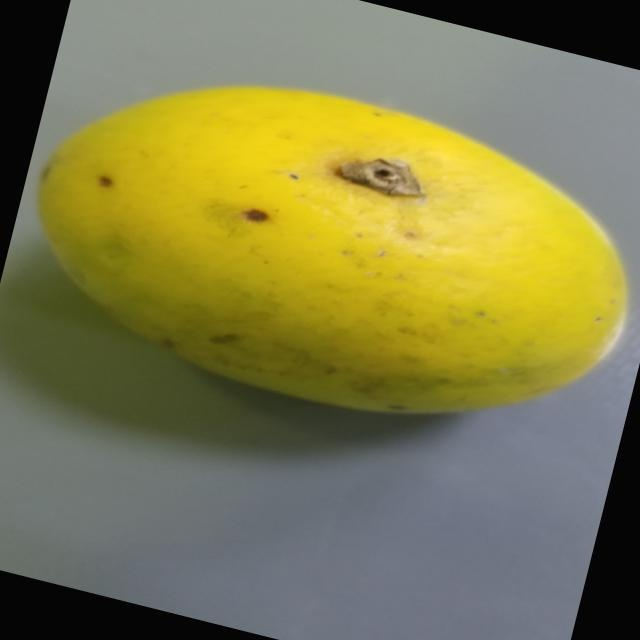agrume: (0, 28, 640, 485)
